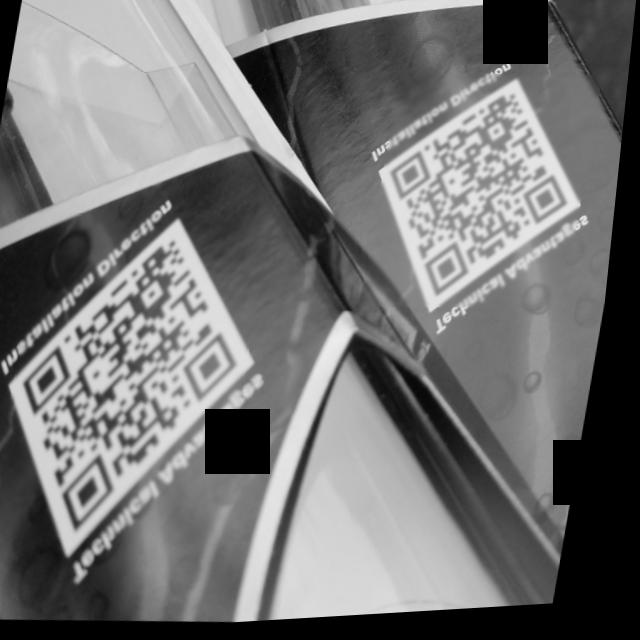QR_CODE: (0, 202, 278, 552), (365, 68, 606, 325)
